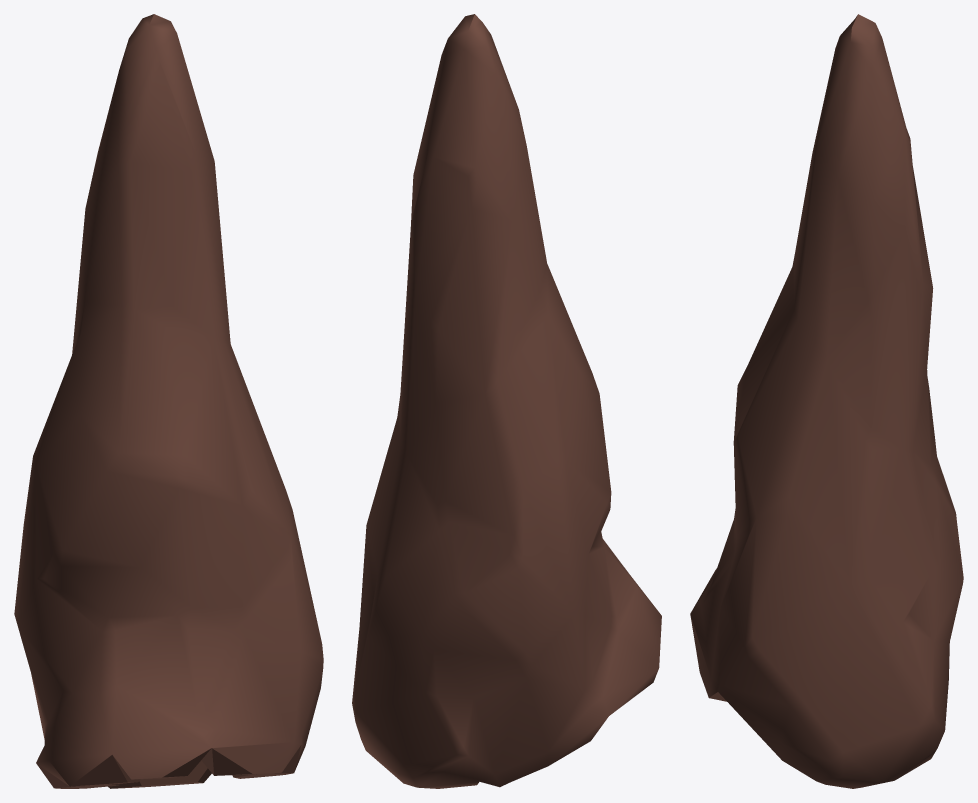
File: p_mesh_hvs_stalagmite_large02_destruction_part09.fbx
3 renders of one model, left to right at view 1: azimuth 30°, elevation 25°; view 2: azimuth 150°, elevation 25°; view 3: azimuth 270°, elevation 25°, orthographic. The views are drawn at different scales.
Visible parts, largest first — view 1: p_large02_part9; view 2: p_large02_part9; view 3: p_large02_part9.
Part boxes in pixels (box(x1,y1,x2,y2)): p_large02_part9: box(14, 14, 323, 788); p_large02_part9: box(352, 14, 661, 788); p_large02_part9: box(690, 14, 963, 788).
Size of the model in its own units: 3.68 by 9.97 by 3.34.
